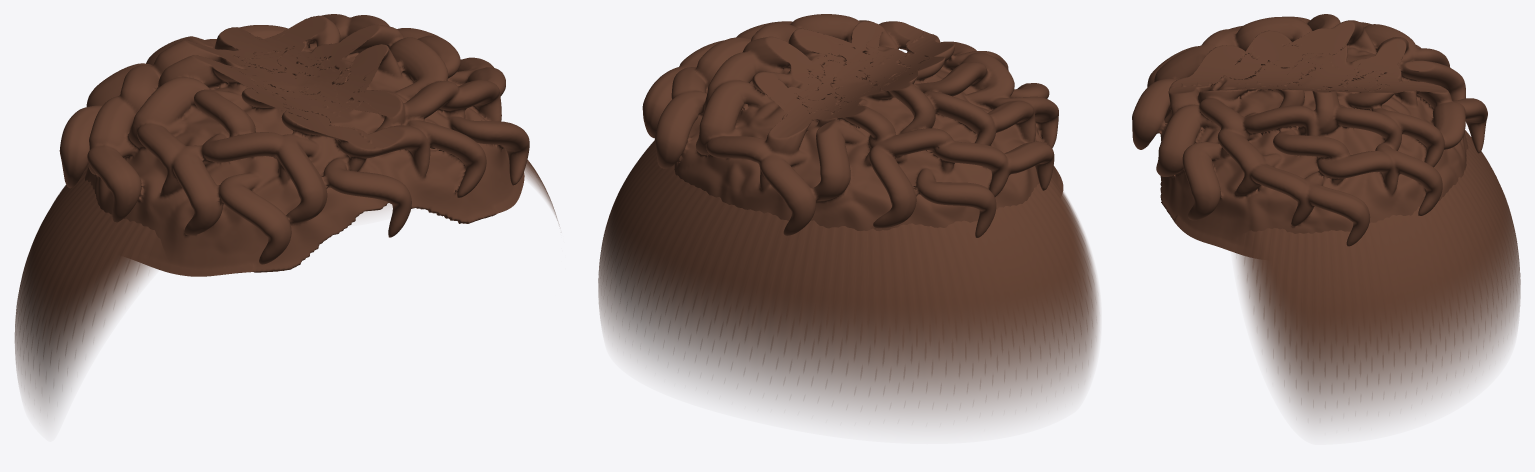
The model's file is Masculine-curly-top-cowboy257-hair.glb.
3 views of the same model, side by side, from view 1: azimuth 30°, elevation 25°; view 2: azimuth 150°, elevation 25°; view 3: azimuth 270°, elevation 25° (orthographic). The views are drawn at different scales.
Parts seen in each view (by area): view 1: 226 hair / Hair252 / sculpted curl groups, 226 hair / Hair257 / smooth side fade, 226 hair / Hair257 / directional fade marks; view 2: 226 hair / Hair257 / smooth side fade, 226 hair / Hair252 / sculpted curl groups, 226 hair / Hair257 / directional fade marks; view 3: 226 hair / Hair252 / sculpted curl groups, 226 hair / Hair257 / smooth side fade, 226 hair / Hair257 / directional fade marks.
Boxes of the visible parts, bbox=[...] form: 226 hair / Hair252 / sculpted curl groups: bbox=[59, 14, 529, 276]; 226 hair / Hair257 / smooth side fade: bbox=[15, 75, 558, 418]; 226 hair / Hair257 / directional fade marks: bbox=[16, 160, 535, 371]; 226 hair / Hair257 / smooth side fade: bbox=[598, 72, 1099, 423]; 226 hair / Hair252 / sculpted curl groups: bbox=[642, 14, 1063, 237]; 226 hair / Hair257 / directional fade marks: bbox=[608, 141, 1092, 393]; 226 hair / Hair252 / sculpted curl groups: bbox=[1132, 14, 1487, 257]; 226 hair / Hair257 / smooth side fade: bbox=[1234, 75, 1520, 425]; 226 hair / Hair257 / directional fade marks: bbox=[1244, 130, 1517, 389].
Bounding box in the file's own units: 0.9723 × 0.6416 × 0.7499.
